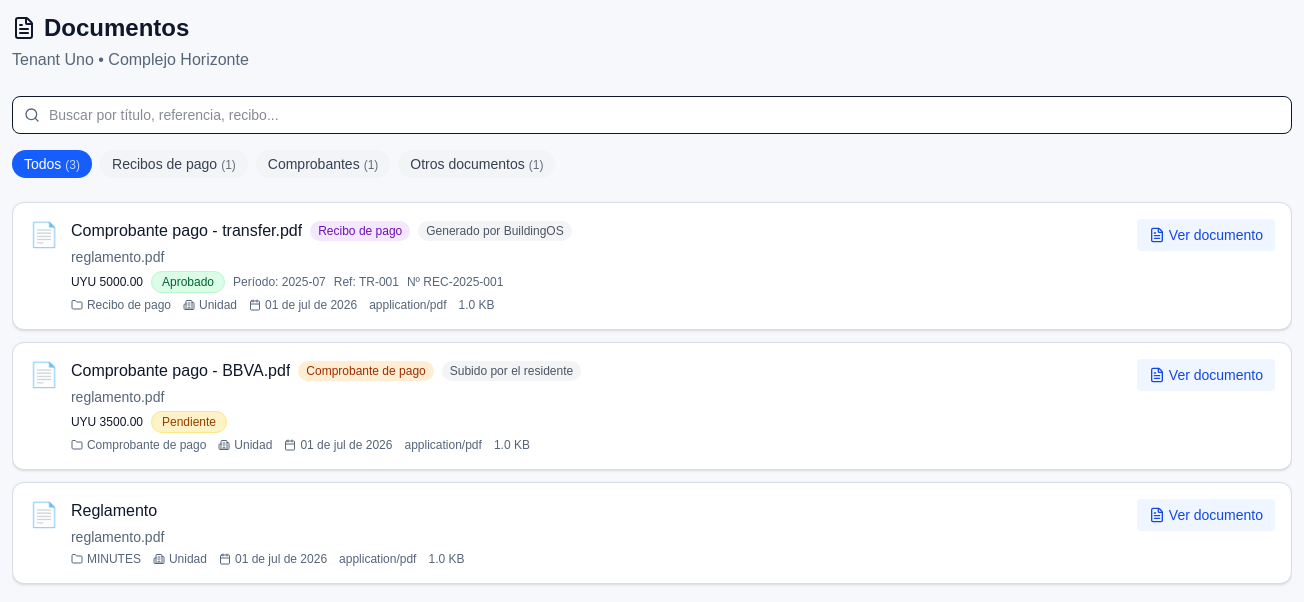
ResidentDocumentsPage › Type filter › filters to PAYMENT_PROOF only
Click the button "Comprobantes(1)".
click(323, 164)  # box [256,150,390,178]
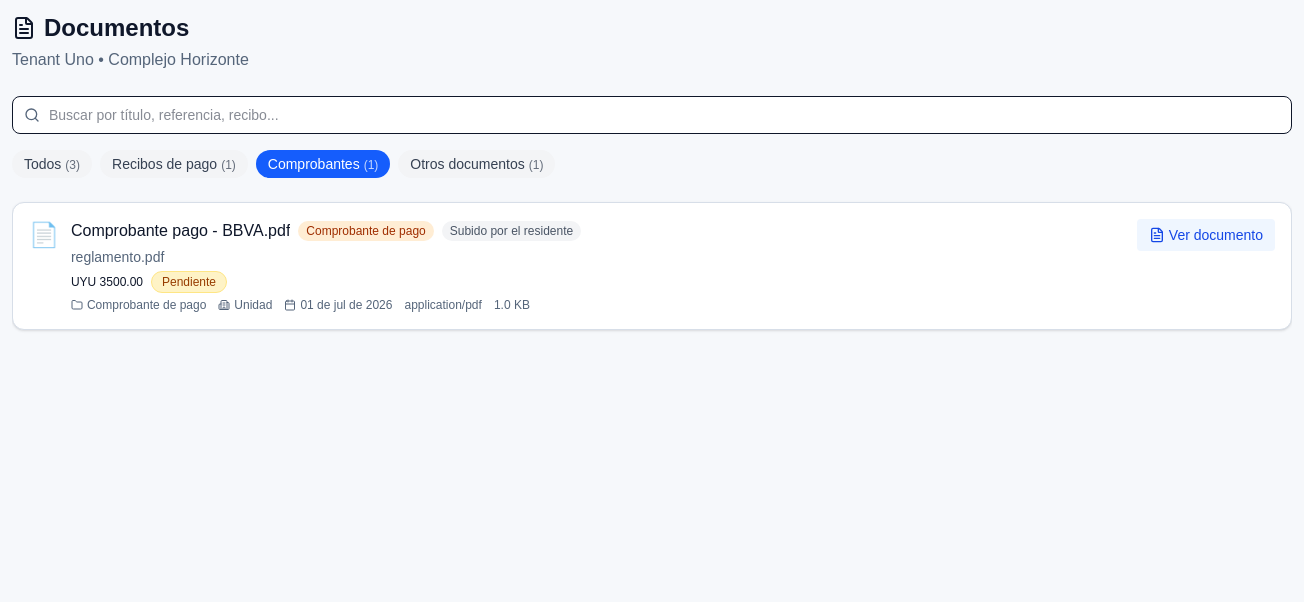
Expected: the heading "Comprobante pago - BBVA.pdf" is shown, [71,219,290,243]
Expected: the heading "Comprobante pago - transfer.pdf" is gone
